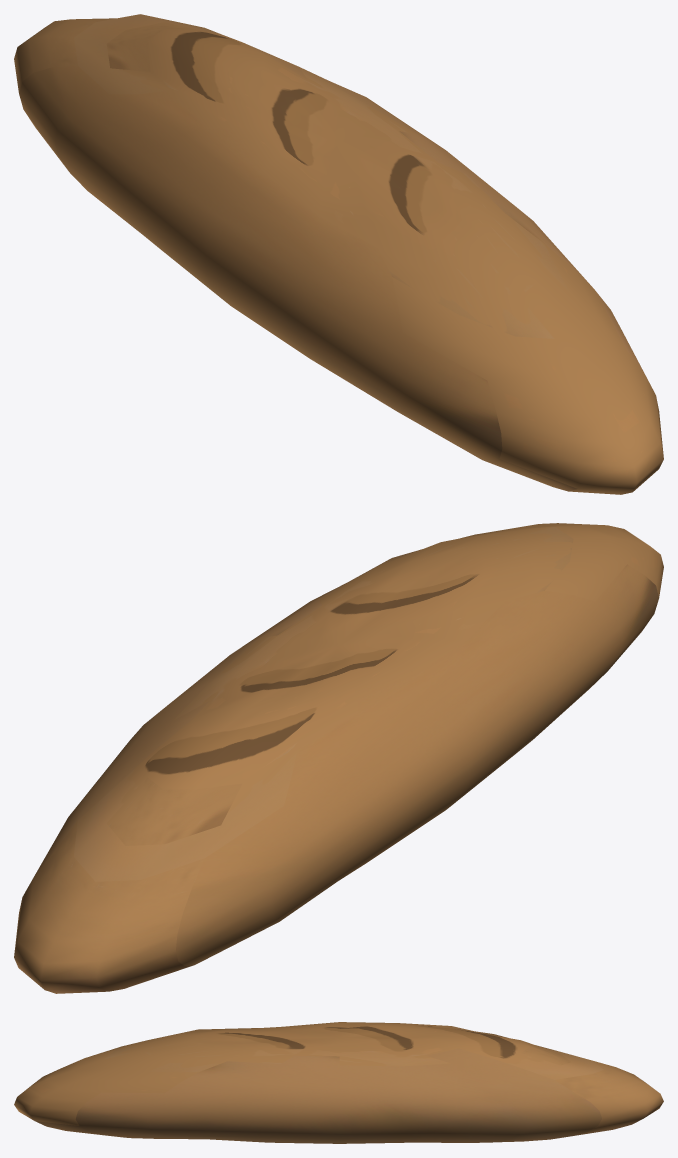
The model's file is Baguette.fbx.
3 renders of one model, top to bottom at view 1: azimuth 30°, elevation 25°; view 2: azimuth 150°, elevation 25°; view 3: azimuth 270°, elevation 25°, orthographic. The views are drawn at different scales.
Parts seen in each view (by area): view 1: pSphere1; view 2: pSphere1; view 3: pSphere1.
Boxes of the visible parts, x1,y1,x2,y2 form: pSphere1: (14, 14, 663, 494); pSphere1: (14, 523, 663, 993); pSphere1: (14, 1022, 663, 1143).
Size of the model in its own units: 2.37 by 1.42 by 9.19.
Materials: 1 (1 with a texture image).
